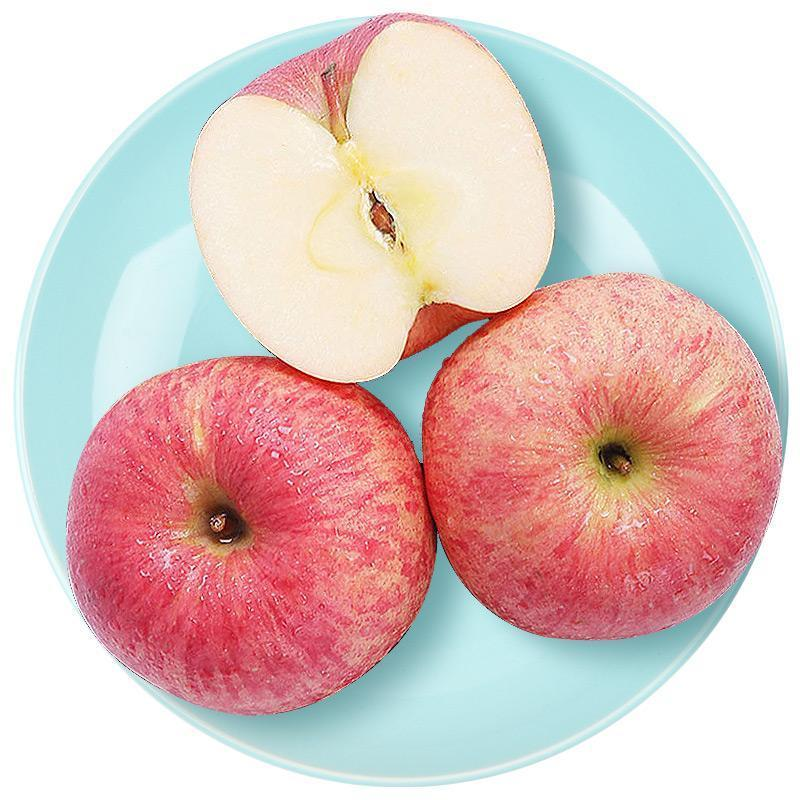apple: (185, 10, 556, 386), (411, 277, 788, 647), (67, 360, 441, 719)
